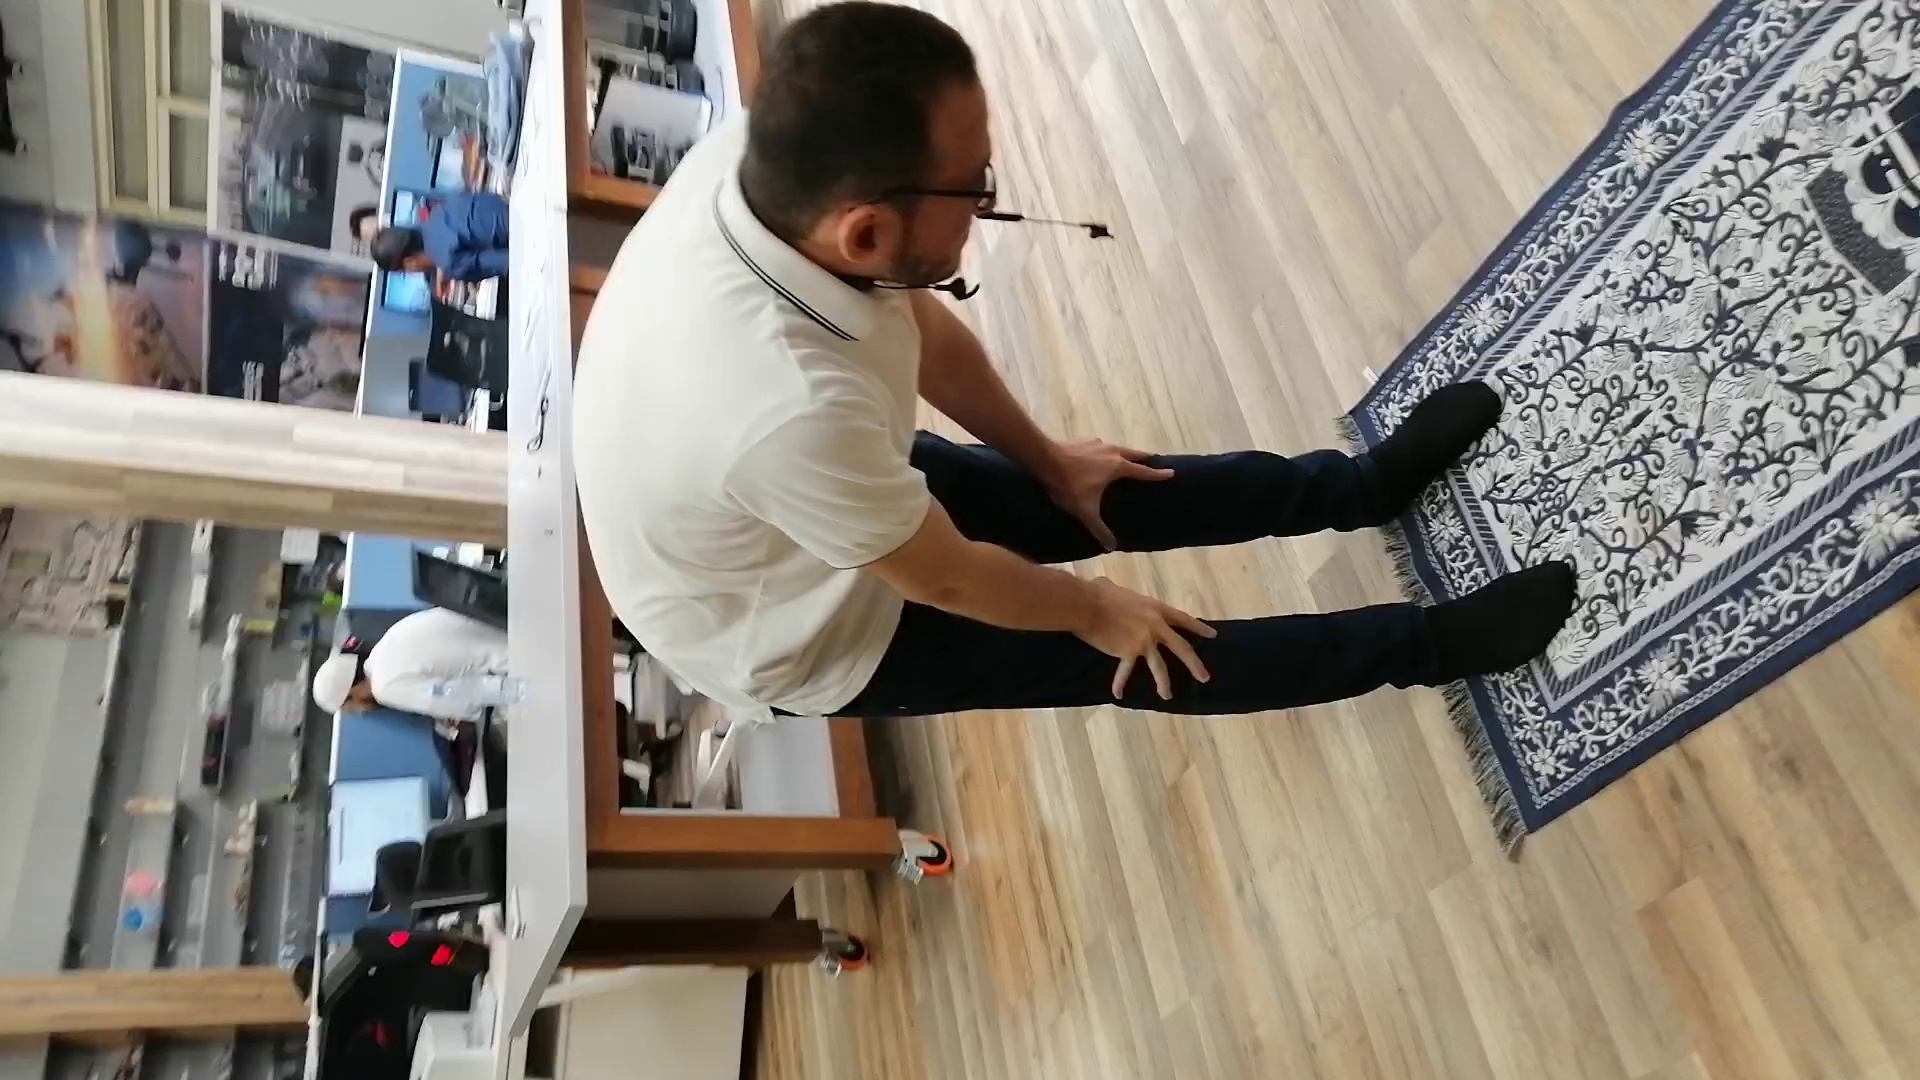ruku: (105, 15, 1692, 761)
